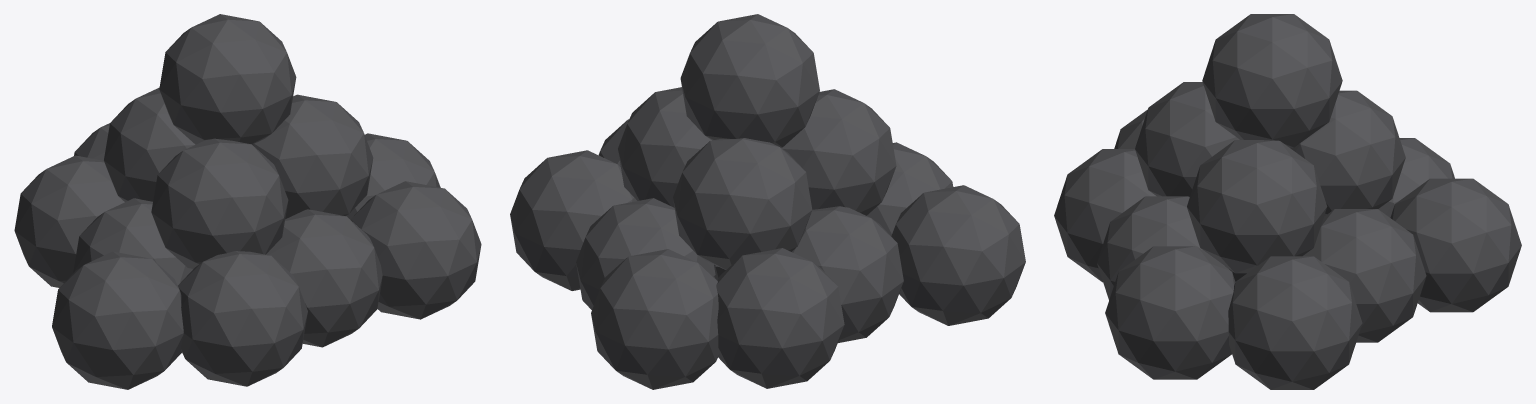
File: SM_Prop_CannonBalls_03.glb
3 renders of one model, left to right at view 1: azimuth 30°, elevation 25°; view 2: azimuth 150°, elevation 25°; view 3: azimuth 270°, elevation 25°, orthographic.
Parts seen in each view (by area): view 1: SM_Prop_CannonBalls_03_part00; view 2: SM_Prop_CannonBalls_03_part00; view 3: SM_Prop_CannonBalls_03_part00.
Boxes of the visible parts, <box> form: SM_Prop_CannonBalls_03_part00: <box>14,14,481,389</box>; SM_Prop_CannonBalls_03_part00: <box>510,14,1025,389</box>; SM_Prop_CannonBalls_03_part00: <box>1054,14,1521,389</box>.
Size of the model in its own units: 0.6334 by 0.4131 by 0.5985.
Materials: 1 (1 with a texture image).
